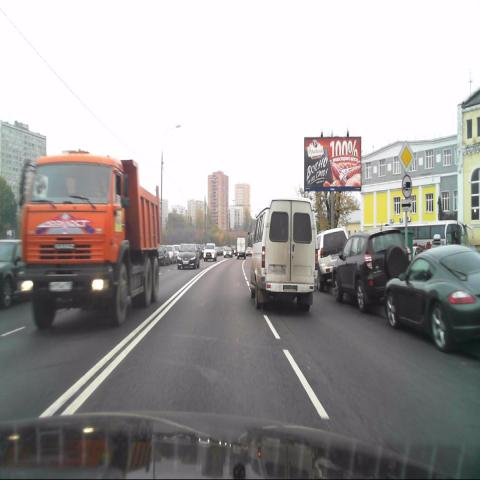3_4_1: (401, 173, 413, 198)
